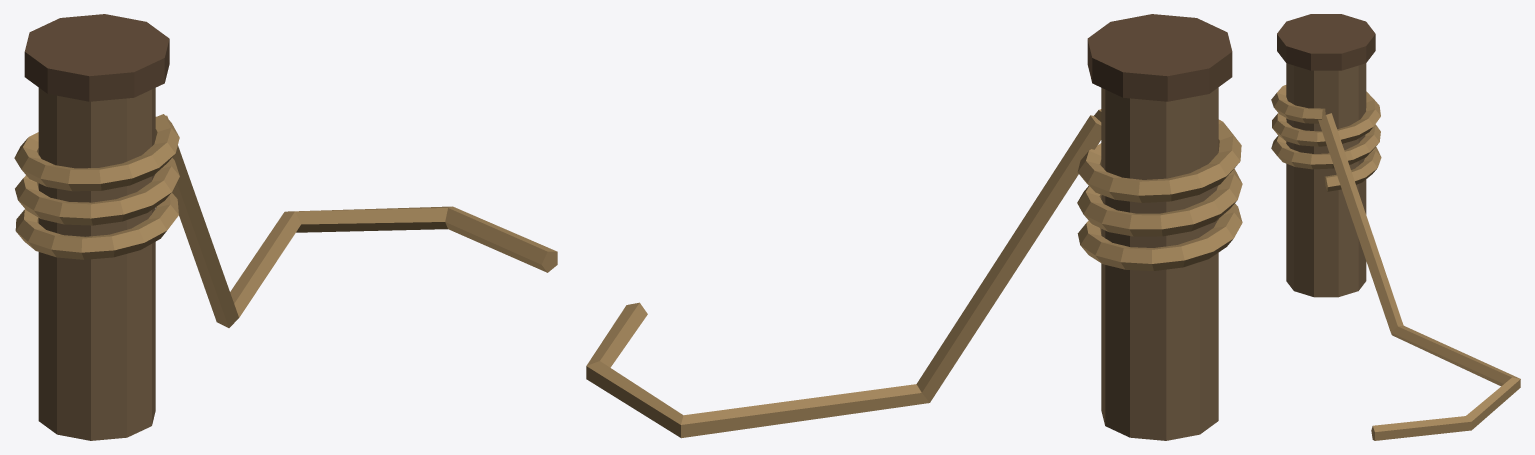
The model's file is decorativos-poste-amarre.glb.
3 renders of one model, left to right at view 1: azimuth 30°, elevation 25°; view 2: azimuth 150°, elevation 25°; view 3: azimuth 270°, elevation 25°, orthographic. The views are drawn at different scales.
Parts seen in each view (by area): view 1: poste_amarre_Tronco, poste_amarre_Soga, poste_amarre_MaderaOscura; view 2: poste_amarre_Tronco, poste_amarre_Soga, poste_amarre_MaderaOscura; view 3: poste_amarre_Tronco, poste_amarre_Soga, poste_amarre_MaderaOscura.
Boxes of the visible parts, <box> form: poste_amarre_Tronco: <box>38,87,155,440</box>; poste_amarre_Soga: <box>14,114,557,327</box>; poste_amarre_MaderaOscura: <box>24,14,169,101</box>; poste_amarre_Tronco: <box>1101,87,1218,440</box>; poste_amarre_Soga: <box>586,109,1242,438</box>; poste_amarre_MaderaOscura: <box>1087,14,1232,101</box>; poste_amarre_Tronco: <box>1286,63,1366,297</box>; poste_amarre_Soga: <box>1271,85,1520,440</box>; poste_amarre_MaderaOscura: <box>1277,14,1375,70</box>.
Size of the model in its own units: 1.86 by 1.16 by 1.06.
